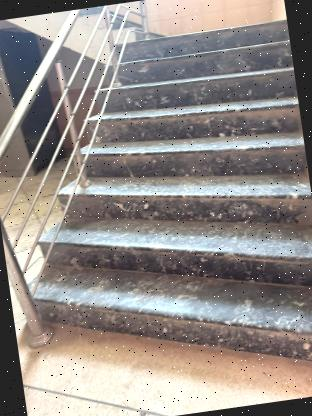stair: (44, 10, 312, 389)
